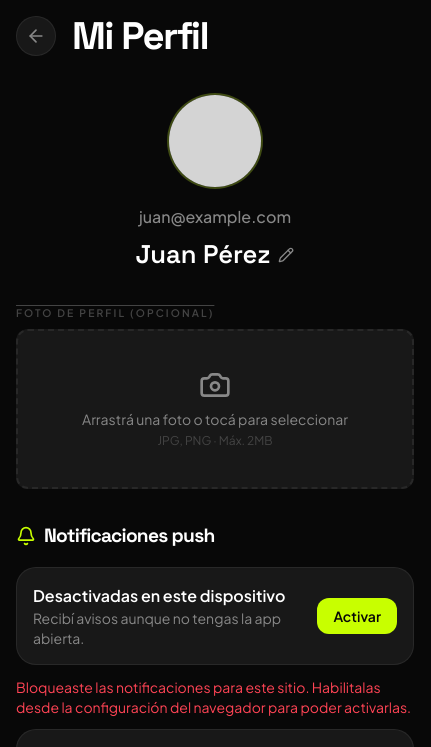
Scenario: ProfileView › shows validation error for short name
Check: the text "Juan Pérez" is shown, box x1=136 y1=237 x2=270 y2=273
Step 1. Click the button "Juan Pérez" → {"x": 215, "y": 255}, box x1=55 y1=237 x2=375 y2=273
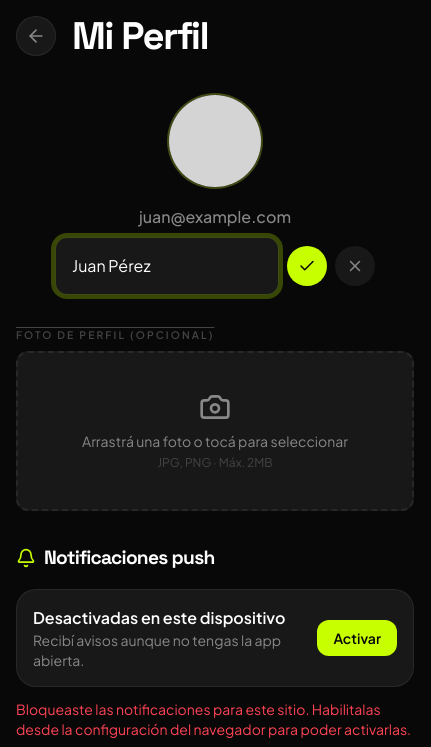
Step 2. Replace the text in the field with "A" → {"x": 167, "y": 266}, box x1=55 y1=237 x2=279 y2=295
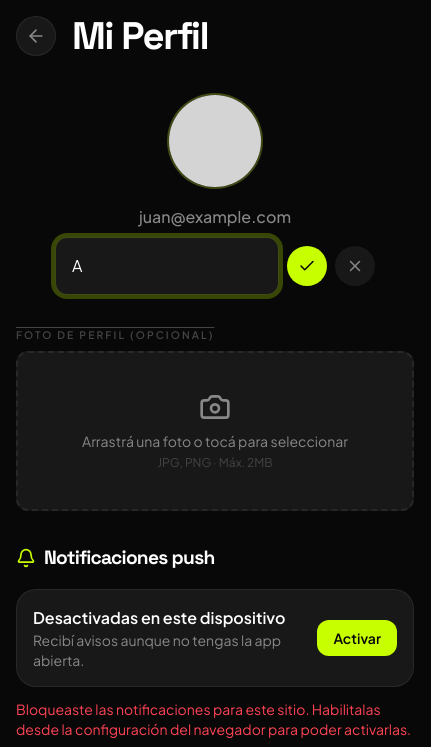
Step 3. Click the button named "Guardar nombre" → {"x": 307, "y": 266}, box x1=287 y1=246 x2=327 y2=286
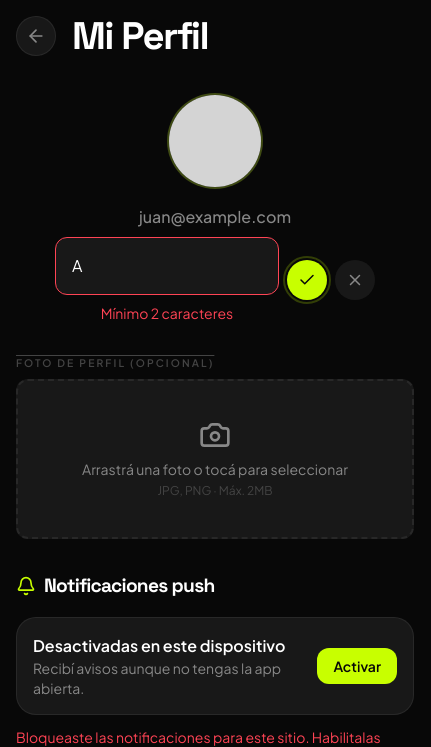
Check: the text "Mínimo 2 caracteres" is shown, box x1=101 y1=304 x2=233 y2=322
